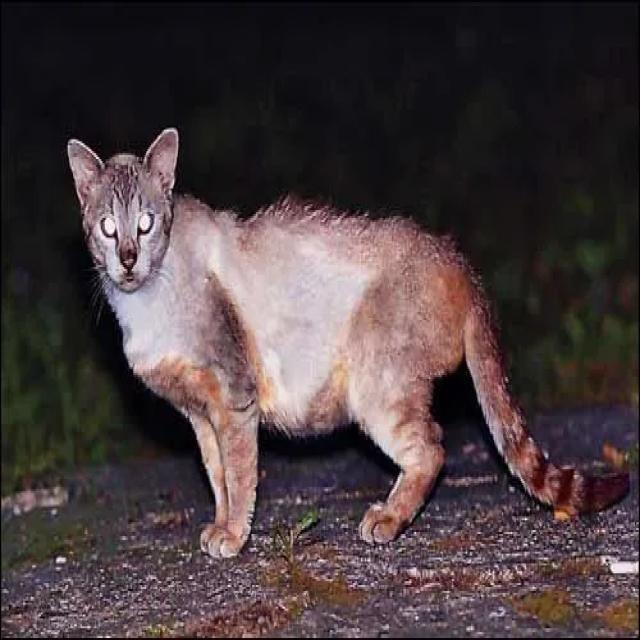cat: (68, 128, 590, 558)
